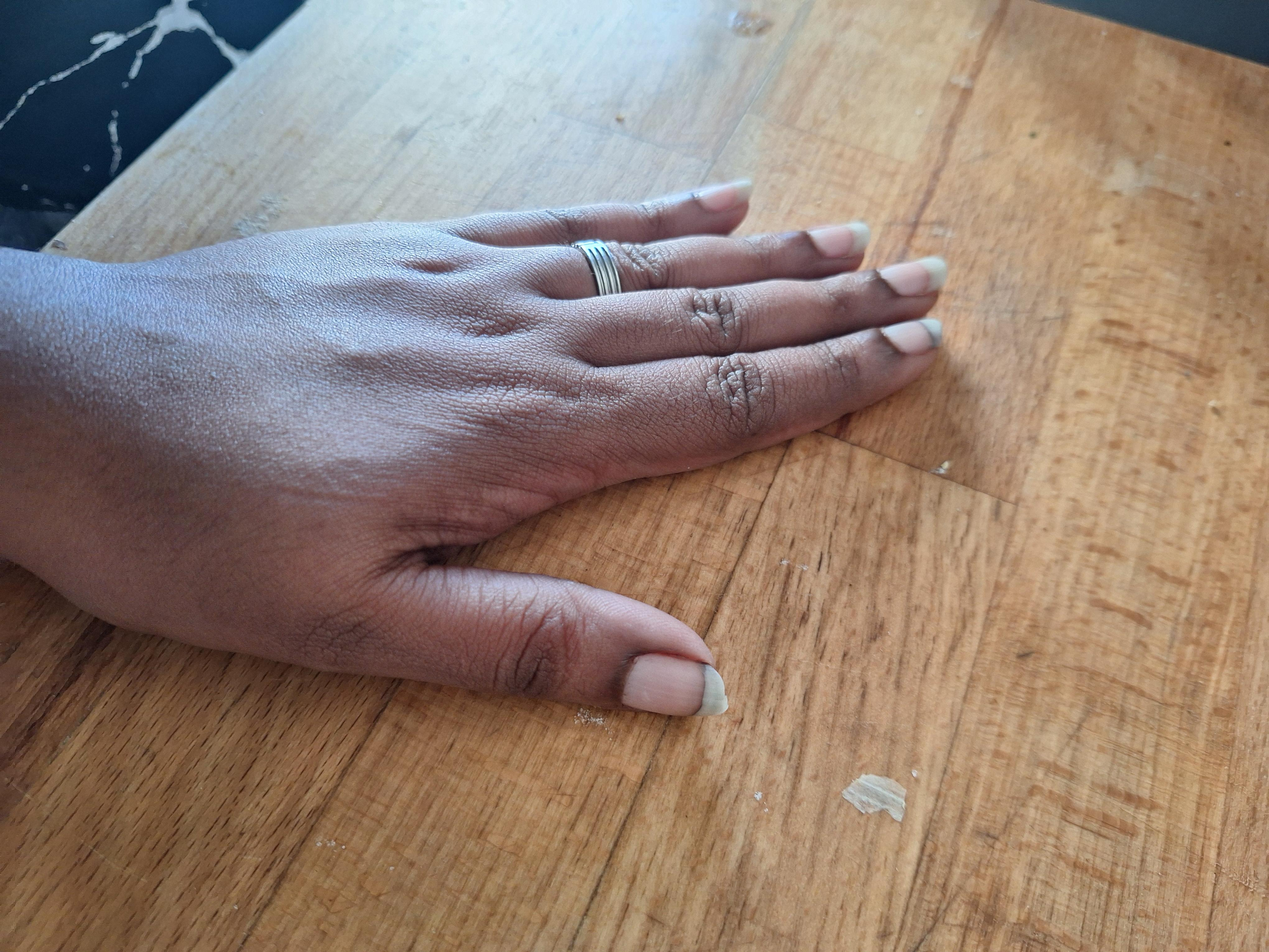Fingernail: (623, 653, 728, 717), (880, 258, 946, 297), (809, 222, 870, 259), (883, 318, 941, 355), (696, 181, 752, 213)
